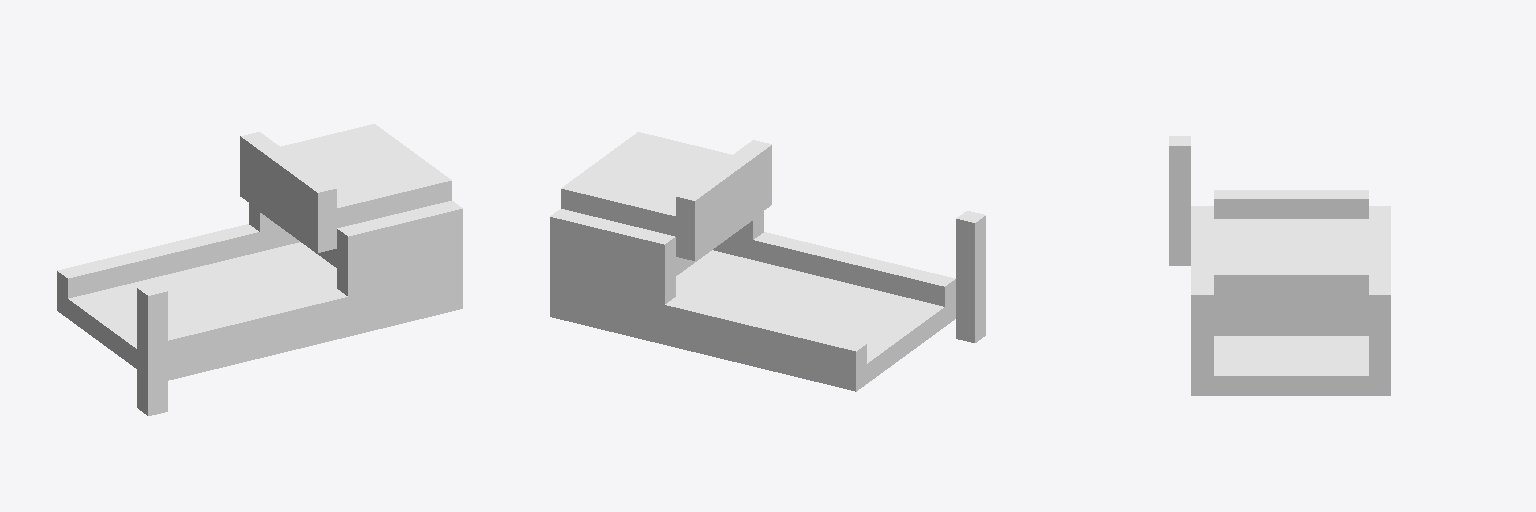
File: Plastic3.obj
3 views of the same model, side by side, from view 1: azimuth 30°, elevation 25°; view 2: azimuth 150°, elevation 25°; view 3: azimuth 270°, elevation 25° (orthographic).
Visible parts, largest first — view 1: object 1; view 2: object 1; view 3: object 1.
Boxes of the visible parts, x1,y1,x2,y2 form: object 1: [57, 124, 462, 415]; object 1: [550, 132, 985, 391]; object 1: [1169, 136, 1390, 395].
Size of the model in its own units: 1.7 by 0.8 by 1.